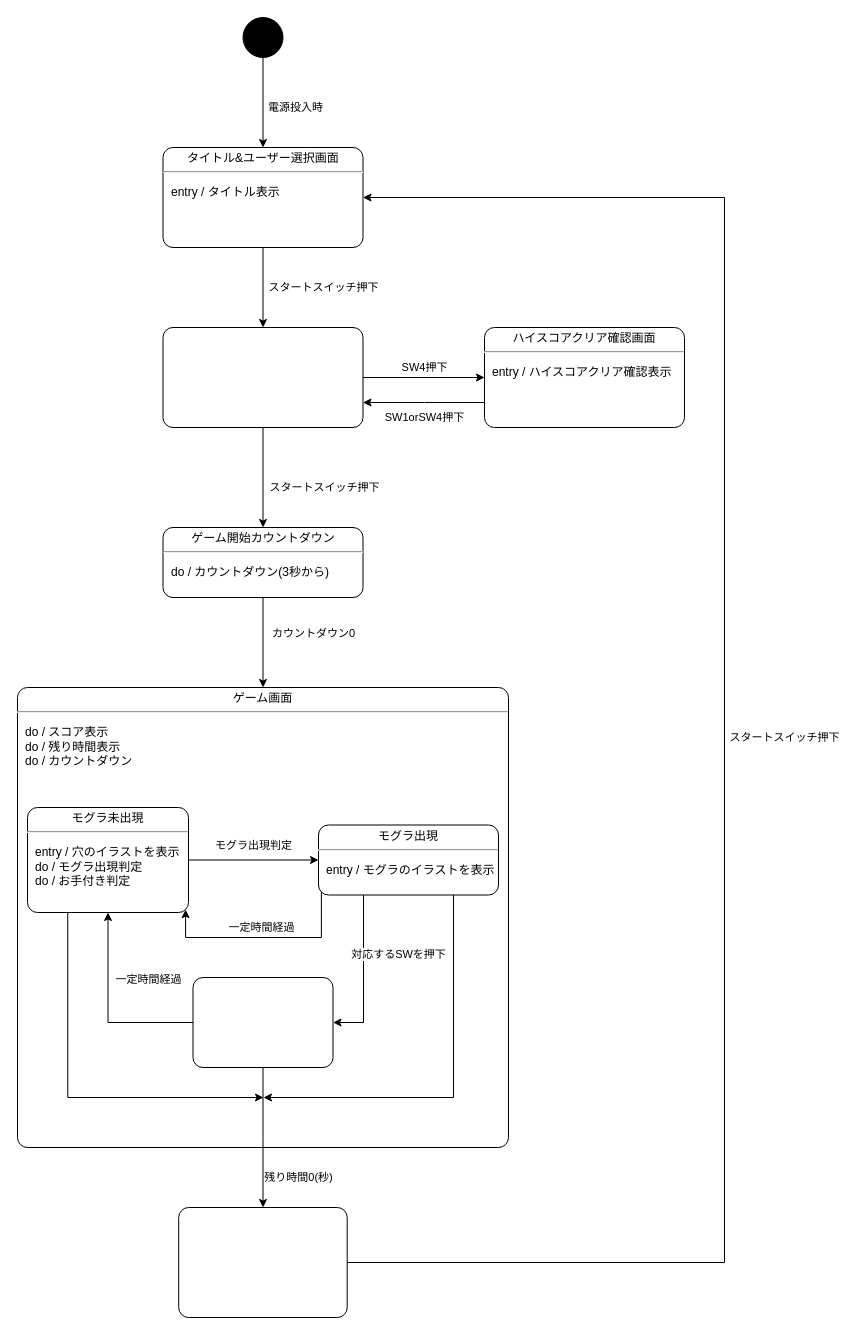
Image size: 857x1335. Some labels were removed from this diagram. The centre of each missing label's shape, as x and y in pixels:
"モグラ撃退 entry / モグラ撃退時のイラストを表示 entry / スコア₊1" belongs at (262,1022).
"リザルト画面 entry / スコア表示 entry / 前回までのハイスコア表示 entry / ハイスコア更新" belongs at (262,1262).
"難易度選択画面 entry / 難易度表示 entry / ハイスコア表示" belongs at (262,377).
